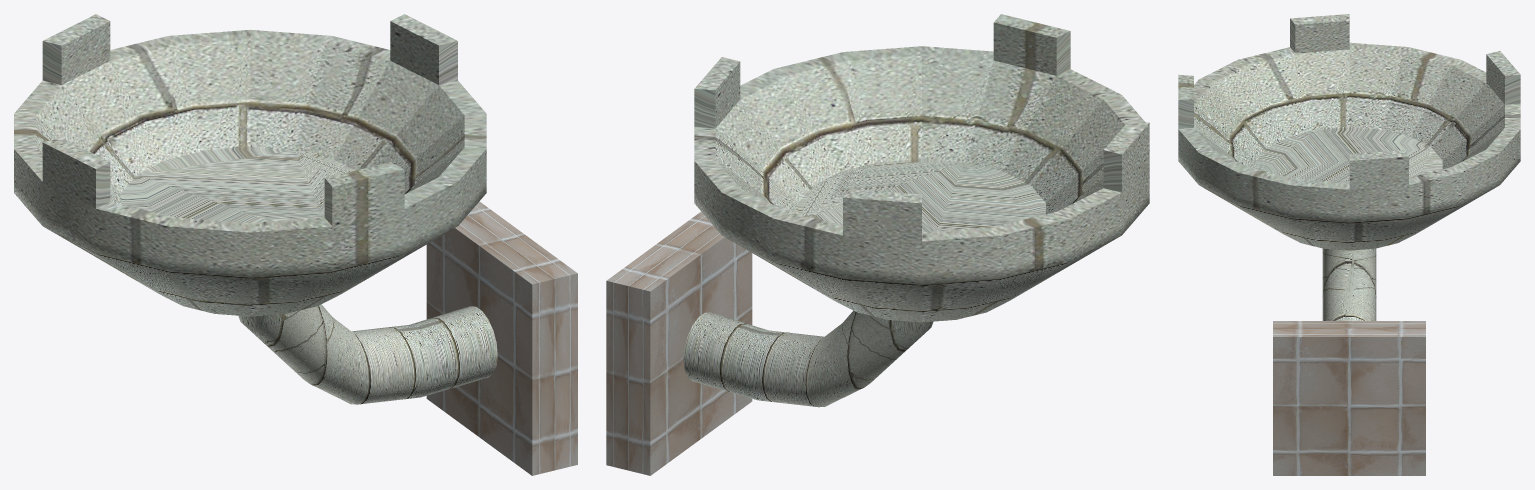
Rendered from Torch.fbx.
3 views of the same model, side by side, from view 1: azimuth 30°, elevation 25°; view 2: azimuth 150°, elevation 25°; view 3: azimuth 270°, elevation 25° (orthographic). The views are drawn at different scales.
Visible parts, largest first — view 1: Cylinder001, Box003, Cylinder002; view 2: Cylinder001, Box003, Cylinder002; view 3: Cylinder001, Box003, Cylinder002.
Boxes of the visible parts, x1,y1,x2,y2 form: Cylinder001: (14, 14, 486, 316); Box003: (426, 201, 577, 475); Cylinder002: (238, 304, 497, 404); Cylinder001: (694, 14, 1149, 322); Box003: (606, 211, 752, 475); Cylinder002: (683, 310, 933, 407); Cylinder001: (1178, 14, 1520, 250); Box003: (1273, 321, 1425, 475); Cylinder002: (1322, 248, 1376, 320).
Size of the model in its own units: 5.27 by 4.47 by 4.19.
Materials: 2 (2 with a texture image).
